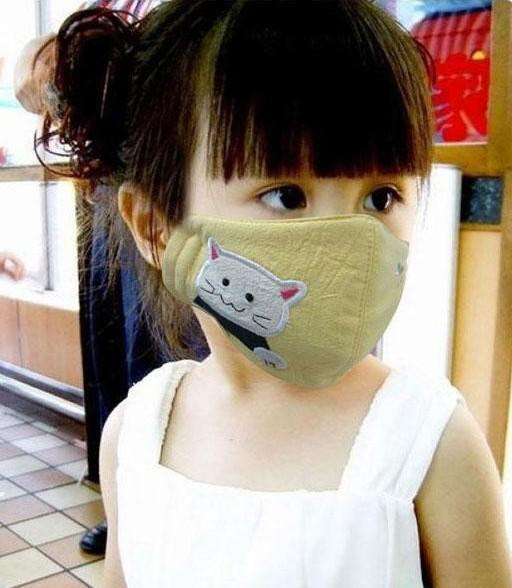OK: (176, 149, 412, 375)
